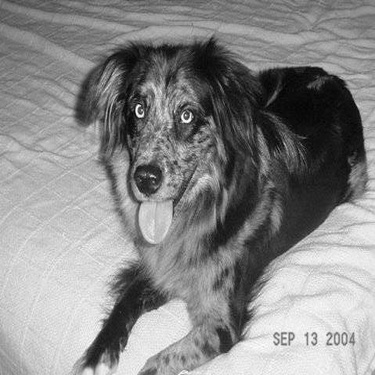dog: (52, 25, 369, 372)
